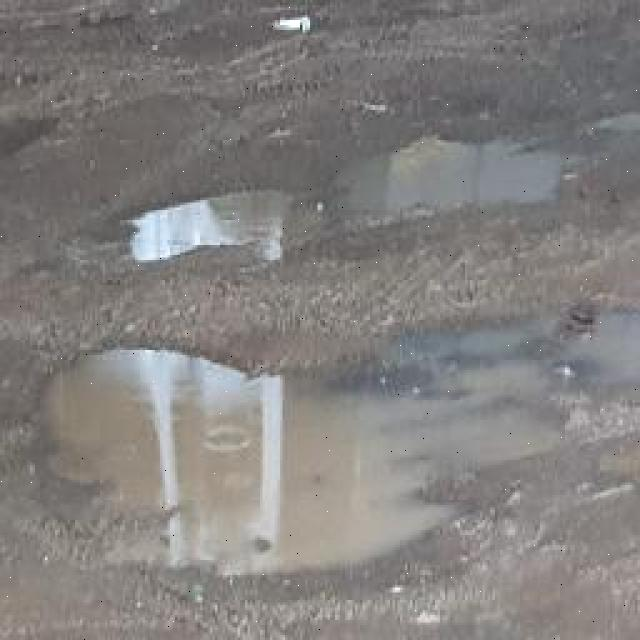stagnation: (35, 344, 617, 604), (120, 136, 632, 282)
